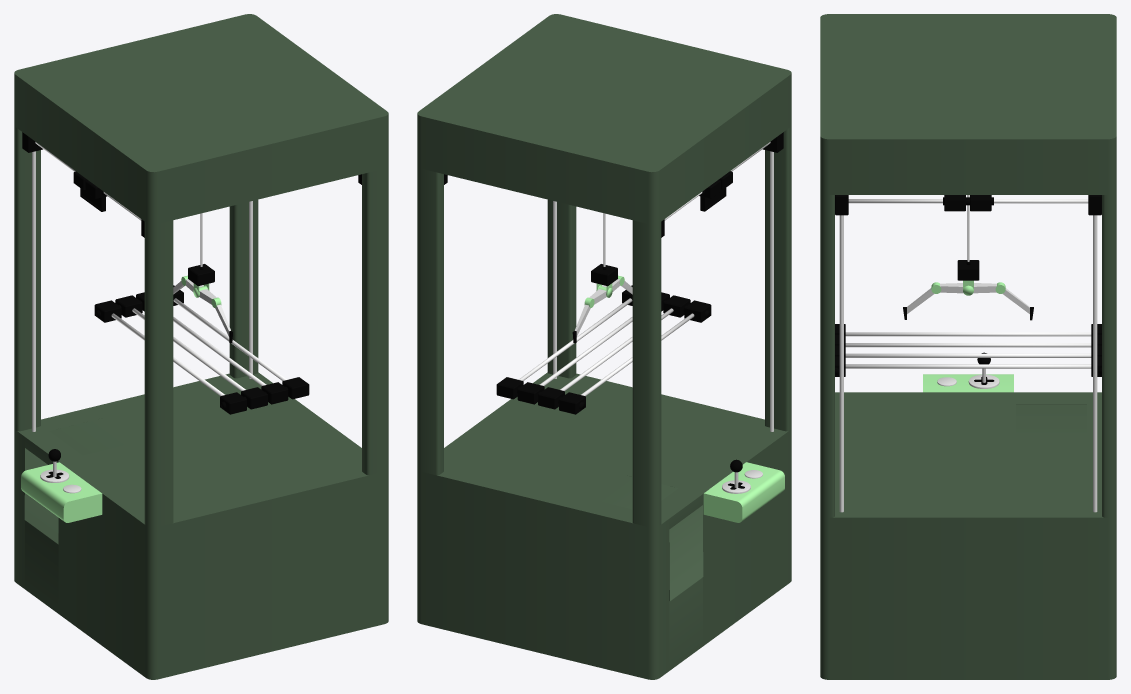
The model's file is stage6_claw_machine.fbx.
3 renders of one model, left to right at view 1: azimuth 30°, elevation 25°; view 2: azimuth 150°, elevation 25°; view 3: azimuth 270°, elevation 25°, orthographic. The views are drawn at different scales.
Visible parts, largest first — view 1: pasted__pasted__pasted__SM_Body, pasted__pasted__pasted__SM_Body_Top, pasted__pasted__pasted__SM_ControllerBase, pasted__pasted__pasted__pasted__pasted__SM_HorizontalBar_Sid, pasted__pasted__pasted__pasted__SM_HorizontalBar_Sides, pasted__pasted__pasted__SM_VerticalBar, pasted__pasted__pasted__SM_Hand_Holder; view 2: pasted__pasted__pasted__SM_Body, pasted__pasted__pasted__SM_Body_Top, pasted__pasted__pasted__SM_ControllerBase, pasted__pasted__pasted__pasted__pasted__SM_HorizontalBar_Sid, pasted__pasted__pasted__pasted__SM_HorizontalBar_Sides, pasted__pasted__pasted__SM_VerticalBar, pasted__pasted__pasted__SM_Hand_Holder; view 3: pasted__pasted__pasted__SM_Body, pasted__pasted__pasted__SM_Body_Top, pasted__pasted__pasted__SM_VerticalBar, pasted__pasted__pasted__pasted__SM_HorizontalBar_Sides, pasted__pasted__pasted__pasted__pasted__SM_HorizontalBar_Sid, pasted__pasted__pasted__SM_ControllerBase, pasted__pasted__pasted__SM_HorizontalBar_Forward, pasted__pasted__pasted__SM_HorizontalBar_Sides, pasted__pasted__pasted__SM_Hand_Holder, pasted__pasted__pasted__SM_Hand_1, pasted__pasted__pasted__SM_Hand_2.
Boxes of the visible parts, x1,y1,x2,y2 form: pasted__pasted__pasted__SM_Body: (14, 372, 388, 679); pasted__pasted__pasted__SM_Body_Top: (14, 14, 388, 527); pasted__pasted__pasted__SM_ControllerBase: (21, 462, 102, 522); pasted__pasted__pasted__pasted__pasted__SM_HorizontalBar_Sid: (94, 295, 267, 414); pasted__pasted__pasted__pasted__SM_HorizontalBar_Sides: (136, 285, 309, 404); pasted__pasted__pasted__SM_VerticalBar: (32, 151, 252, 431); pasted__pasted__pasted__SM_Hand_Holder: (188, 264, 214, 297); pasted__pasted__pasted__SM_Body: (417, 372, 791, 679); pasted__pasted__pasted__SM_Body_Top: (417, 14, 791, 527); pasted__pasted__pasted__SM_ControllerBase: (703, 462, 784, 522); pasted__pasted__pasted__pasted__pasted__SM_HorizontalBar_Sid: (538, 295, 711, 414); pasted__pasted__pasted__pasted__SM_HorizontalBar_Sides: (496, 285, 669, 404); pasted__pasted__pasted__SM_VerticalBar: (553, 151, 773, 431); pasted__pasted__pasted__SM_Hand_Holder: (591, 264, 617, 297); pasted__pasted__pasted__SM_Body: (820, 392, 1116, 679); pasted__pasted__pasted__SM_Body_Top: (820, 14, 1116, 517); pasted__pasted__pasted__SM_VerticalBar: (839, 215, 1097, 512); pasted__pasted__pasted__pasted__SM_HorizontalBar_Sides: (835, 345, 1101, 376); pasted__pasted__pasted__pasted__pasted__SM_HorizontalBar_Sid: (835, 324, 1101, 347); pasted__pasted__pasted__SM_ControllerBase: (923, 374, 1013, 392); pasted__pasted__pasted__SM_HorizontalBar_Forward: (835, 195, 1101, 215); pasted__pasted__pasted__SM_HorizontalBar_Sides: (943, 195, 993, 211); pasted__pasted__pasted__SM_Hand_Holder: (957, 260, 979, 295); pasted__pasted__pasted__SM_Hand_1: (903, 282, 963, 319); pasted__pasted__pasted__SM_Hand_2: (973, 282, 1033, 320).
Size of the model in its own units: 4.78 by 8.29 by 4.12.
